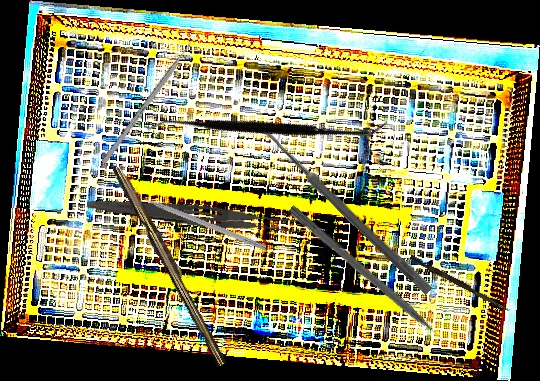Chopper: (131, 184, 270, 251)
Dressing Forceps: (85, 195, 301, 238)
Pusher: (286, 204, 456, 354), (101, 29, 202, 165), (408, 254, 512, 313)
Scalpel Handle: (109, 163, 233, 368)
Spatula Surgical: (146, 21, 389, 231)
Surgical Spoon: (254, 121, 434, 295)
